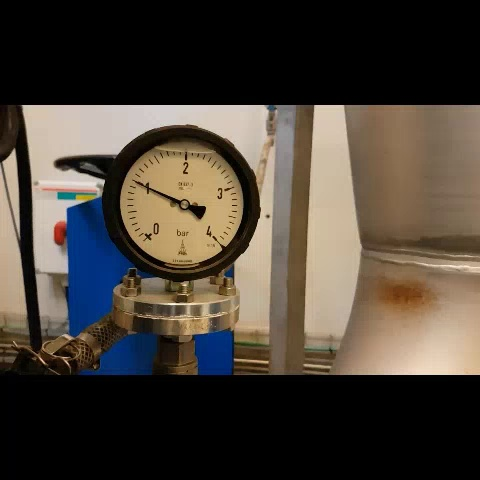Round_Meter: (117, 137, 249, 270)
